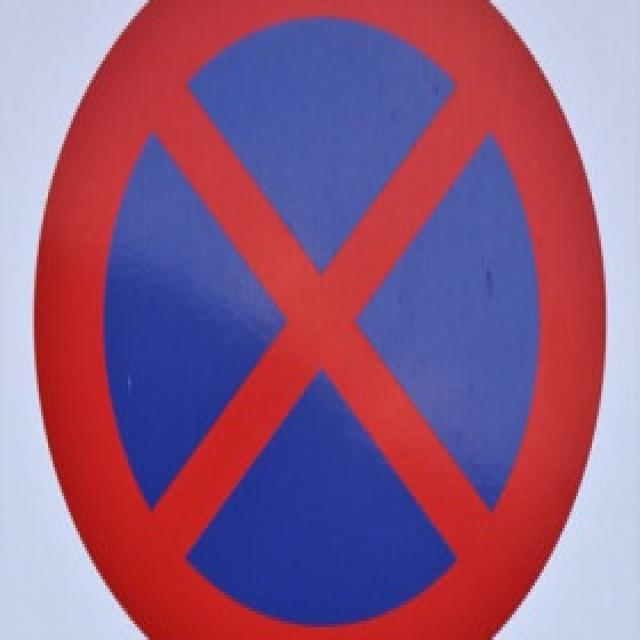no stopping: (29, 0, 610, 640)
